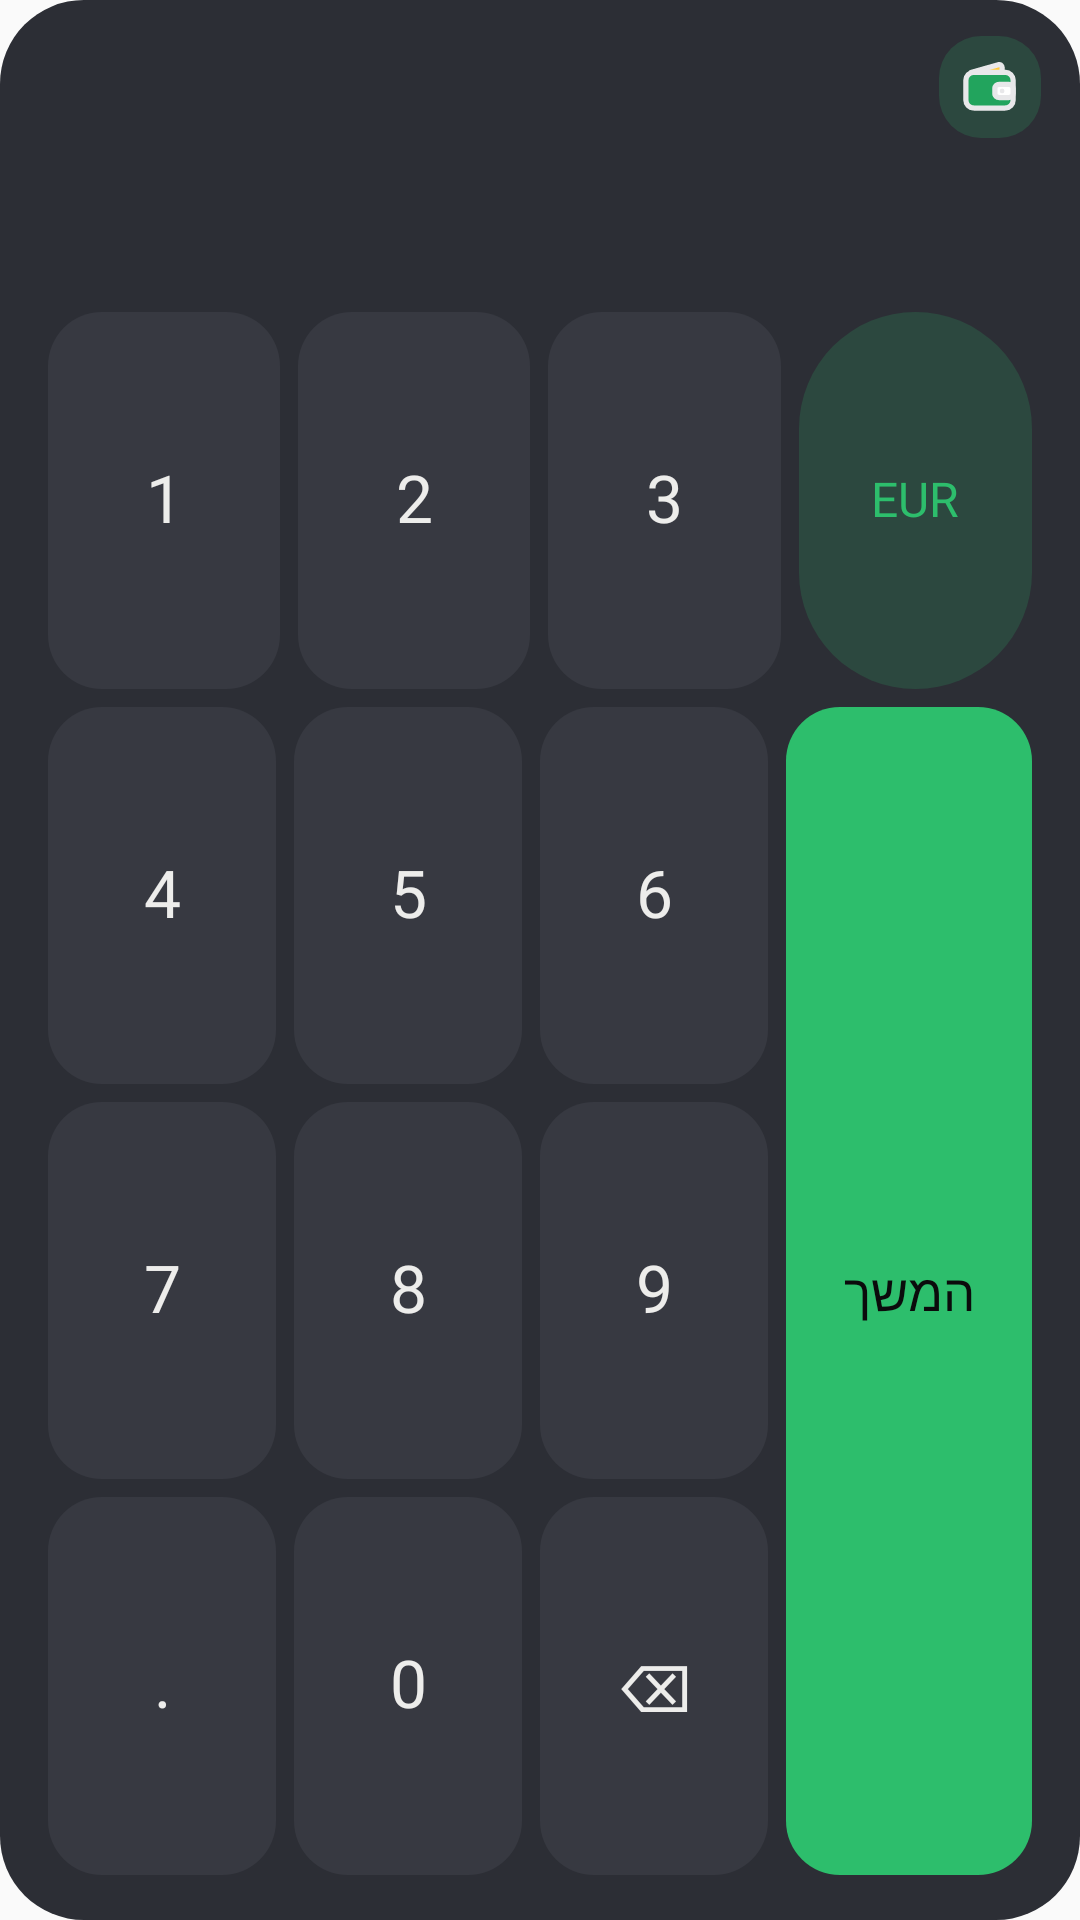

Screen size 1080x1920. Icon name, then its center in pixels as (x,y):
wallet: (989,86)
